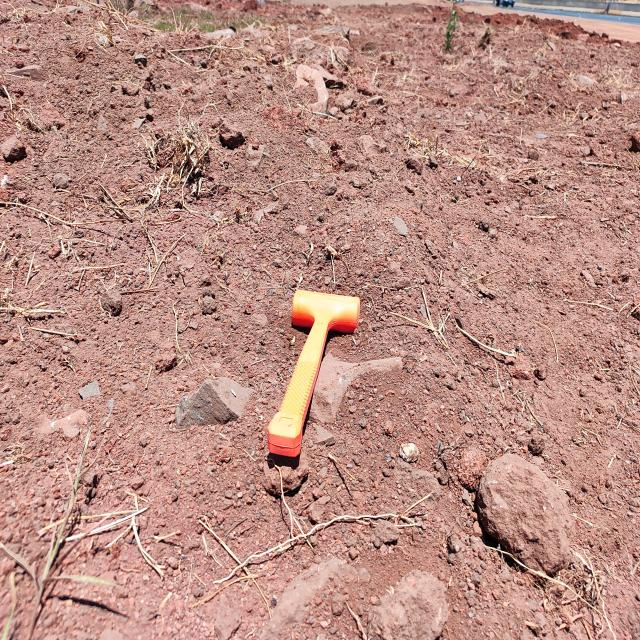Orange_hammer: (266, 287, 361, 459)
